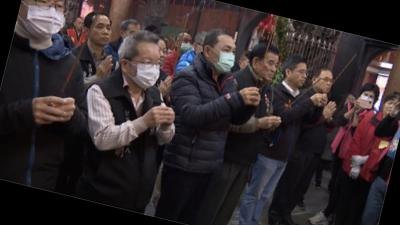with_mask: (125, 51, 164, 92), (205, 40, 239, 76), (177, 34, 196, 56), (358, 90, 377, 109)
without_mask: (89, 19, 115, 46), (258, 56, 281, 84), (313, 73, 334, 95), (290, 65, 309, 87), (384, 98, 400, 118), (74, 19, 86, 32)
